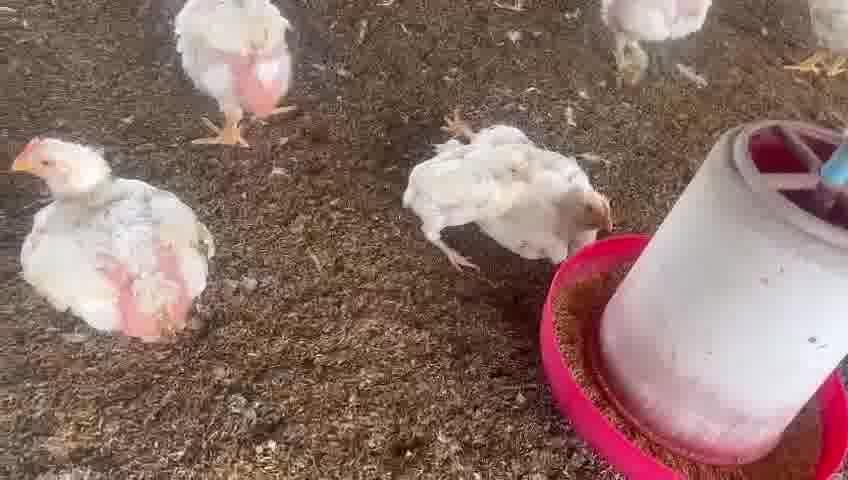AbNormal: (438, 106, 615, 259), (412, 145, 532, 262)
Normal: (4, 140, 206, 342), (160, 0, 306, 151), (572, 0, 715, 80)
